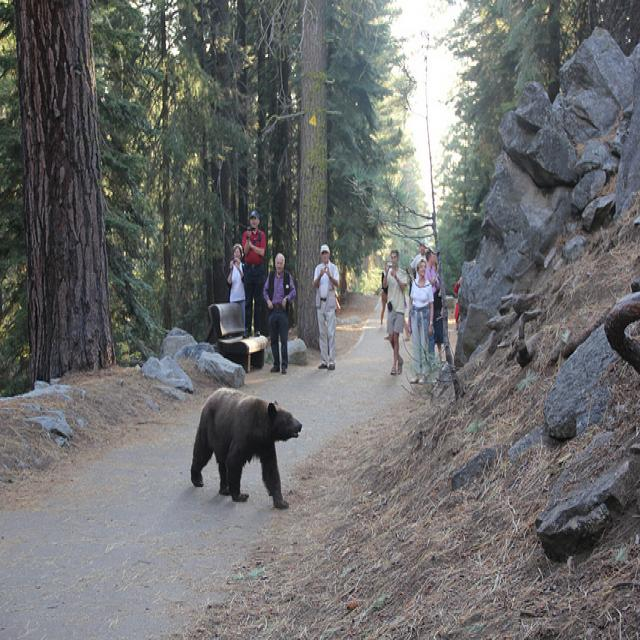Bear: (188, 383, 304, 519)
